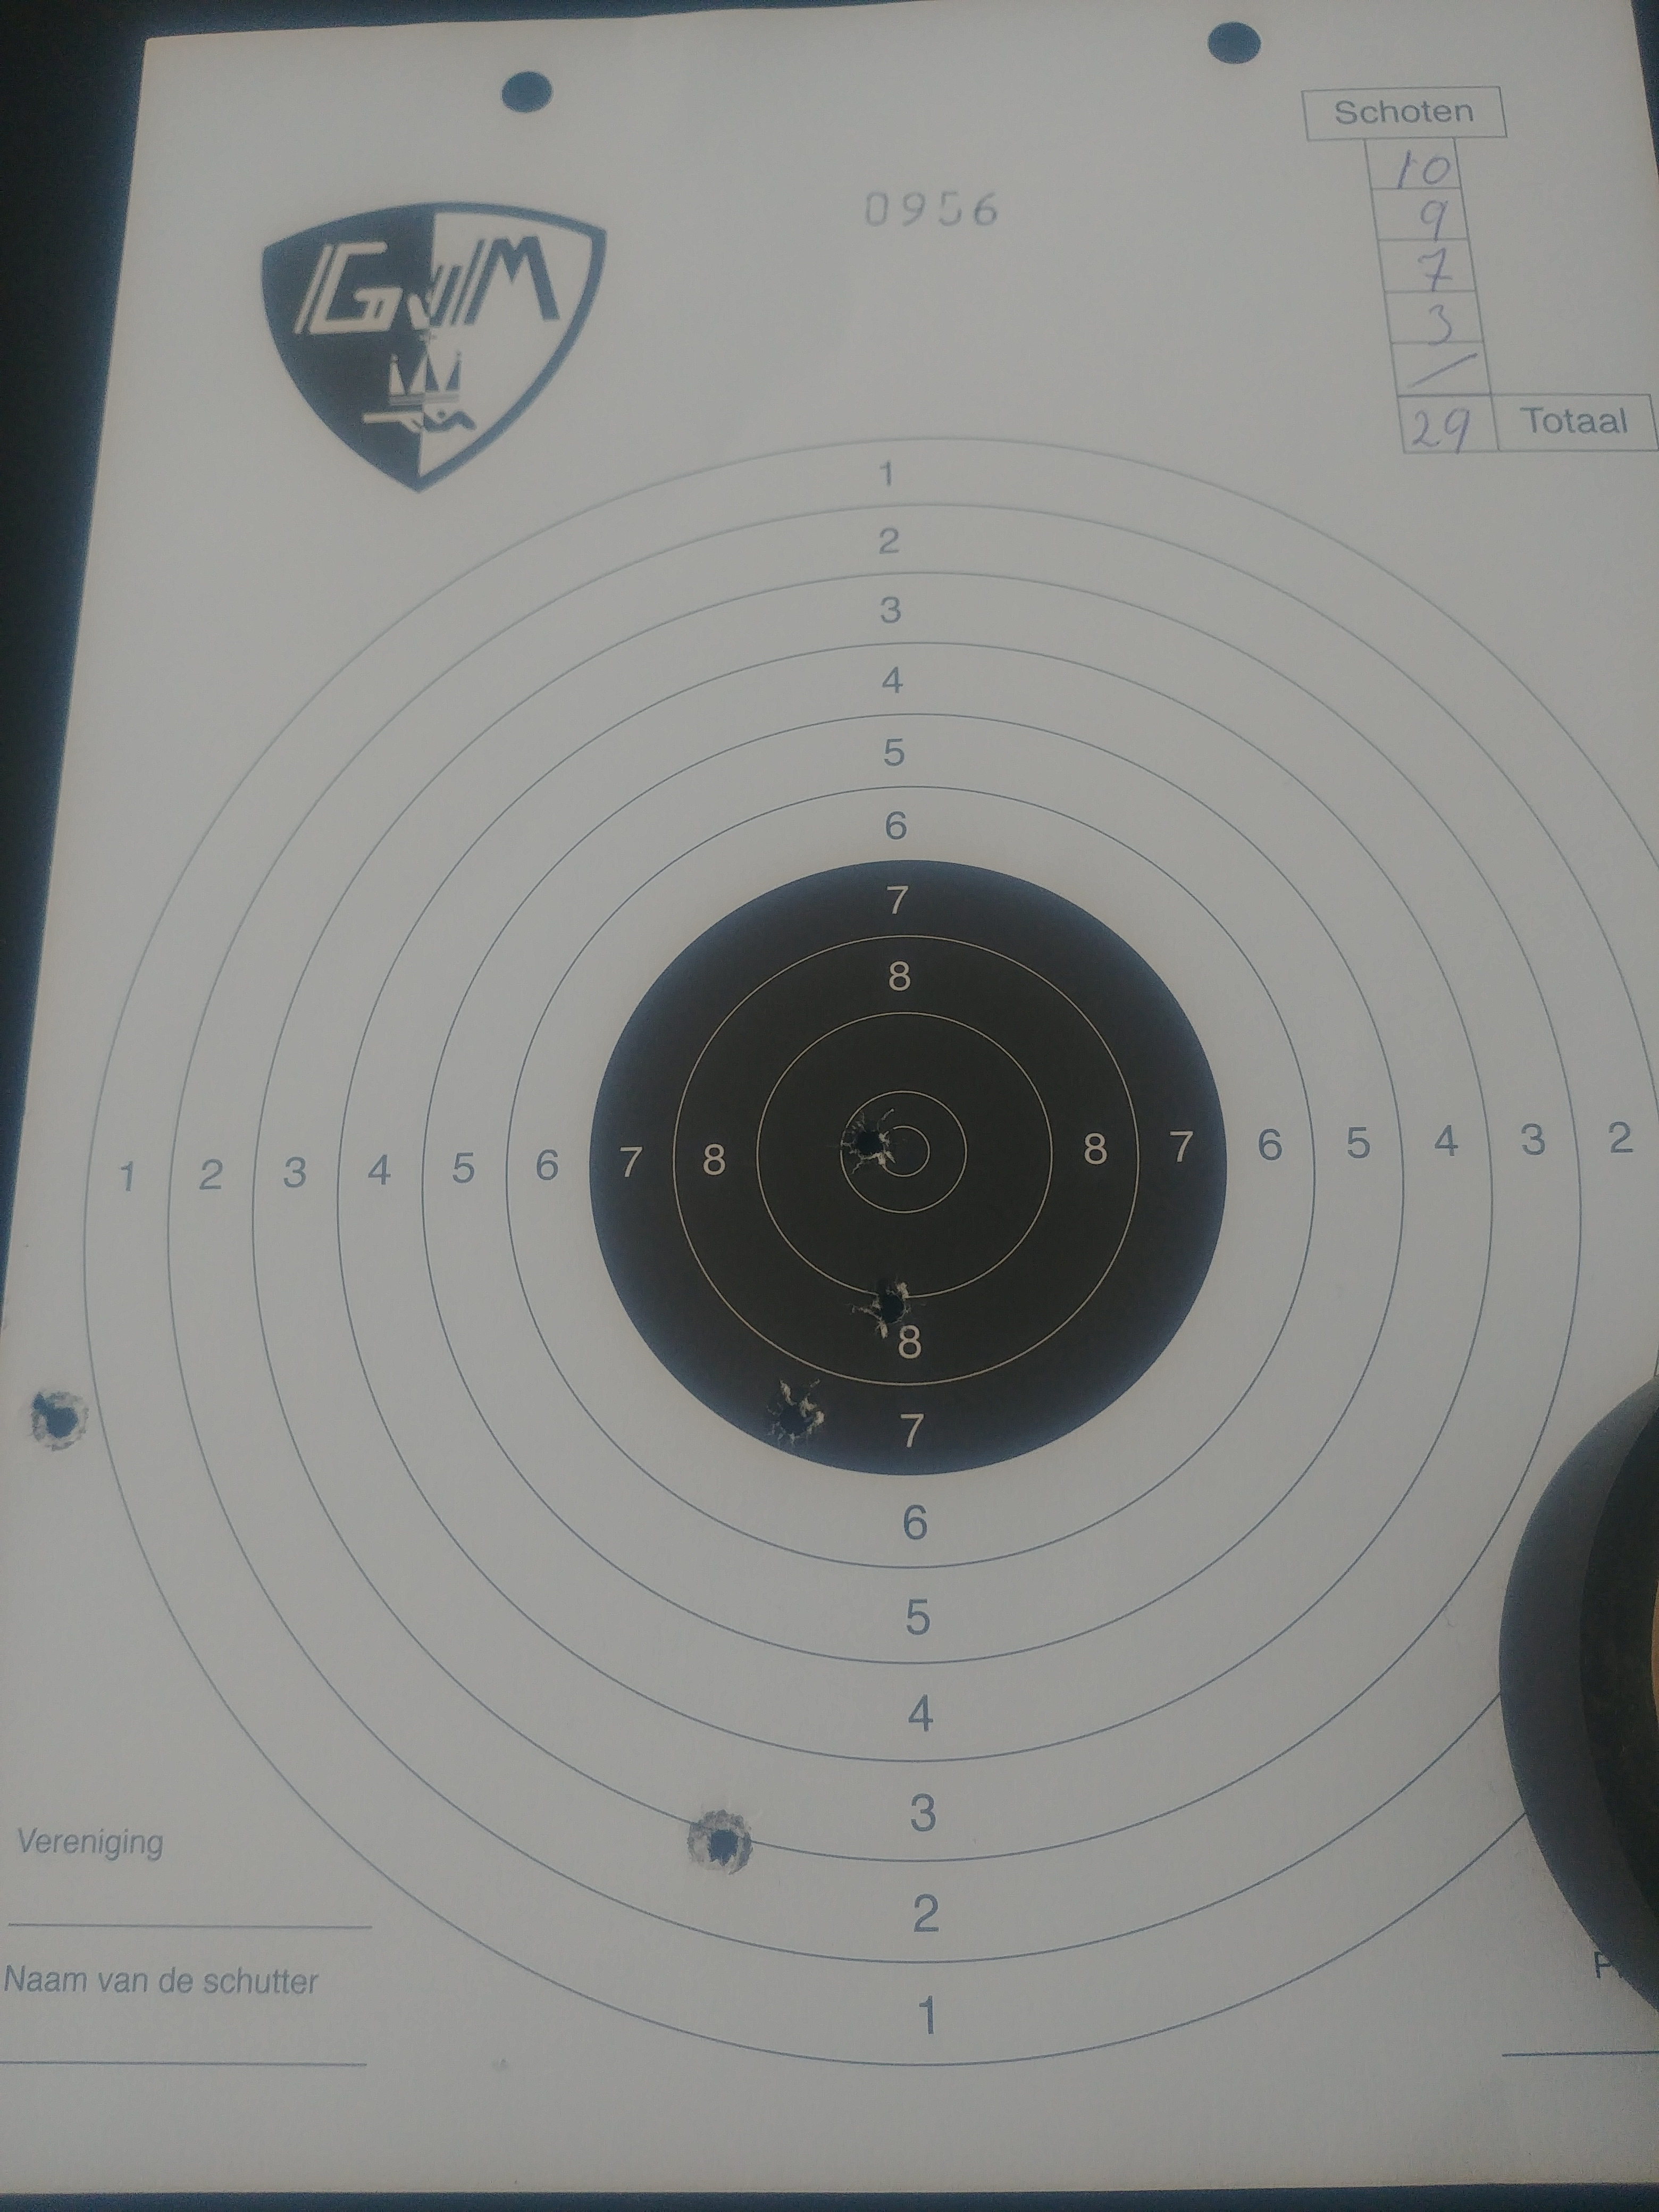center: (584, 857, 1232, 1480)
out: (73, 428, 1659, 2073)
shot: (685, 1804, 756, 1881), (762, 1376, 828, 1453), (859, 1266, 918, 1341), (835, 1104, 896, 1176), (26, 1388, 91, 1453)
target: (838, 1089, 969, 1216)
